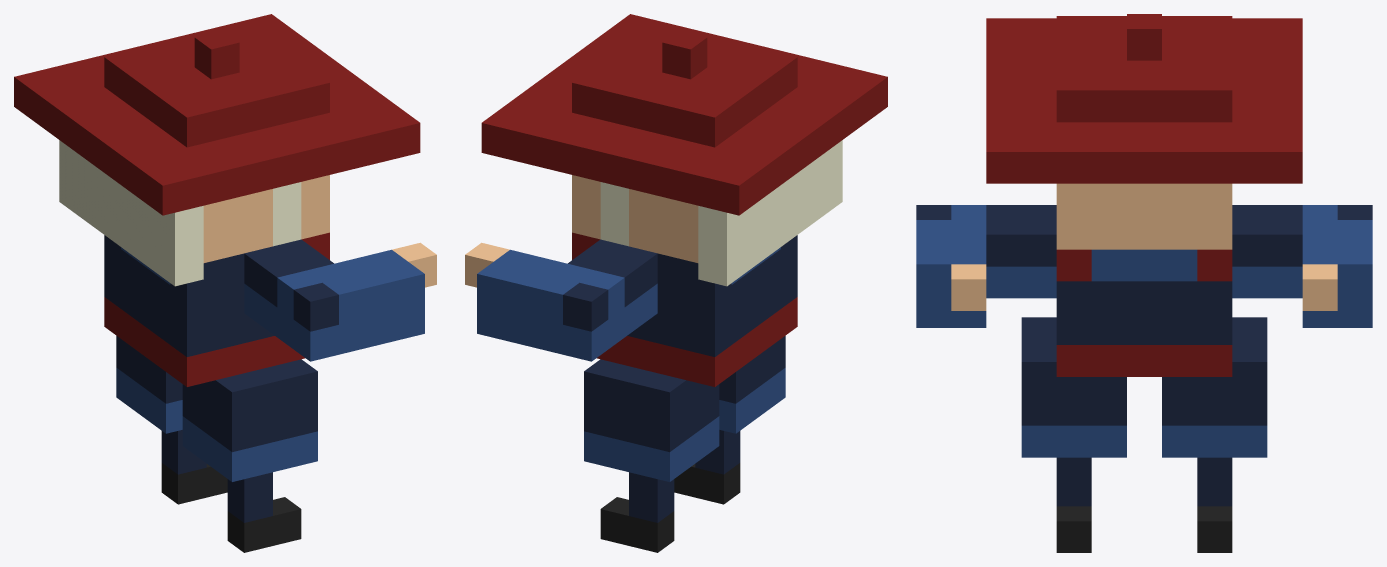
Rendered from bomberman_throwing.obj.
The picture shows the model from 3 angles, left to right: view 1: azimuth 30°, elevation 25°; view 2: azimuth 150°, elevation 25°; view 3: azimuth 270°, elevation 25°; orthographic projection. The views are drawn at different scales.
Bounding box in the file's own units: 0.9 × 1.6 × 1.3.
1 material, 1 textured.
